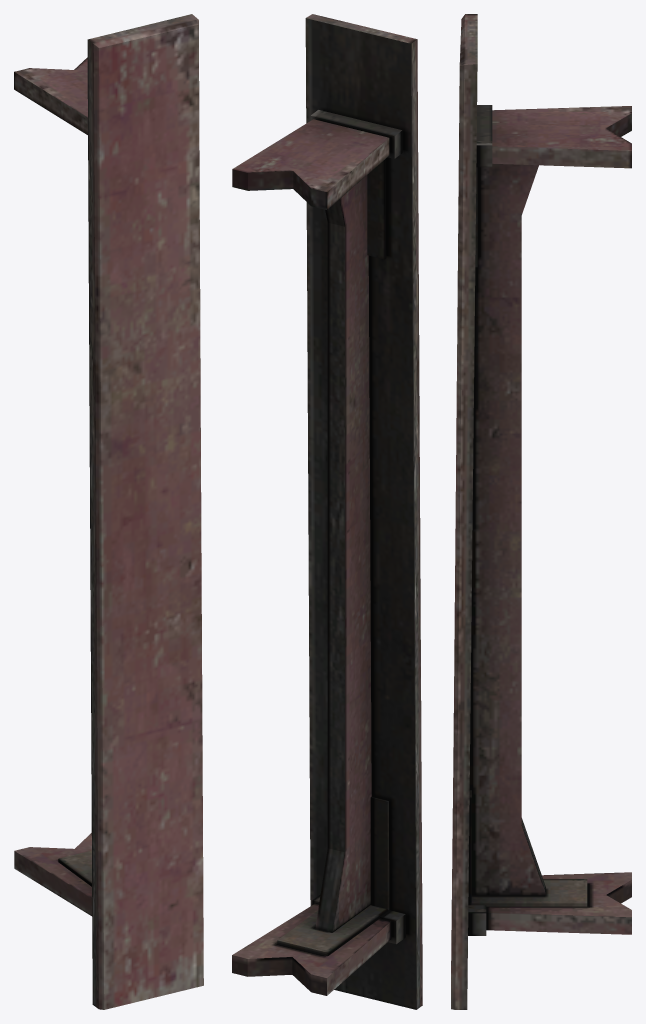
The model's file is bench04.dae.
3 renders of one model, left to right at view 1: azimuth 30°, elevation 25°; view 2: azimuth 150°, elevation 25°; view 3: azimuth 270°, elevation 25°, orthographic. The views are drawn at different scales.
Parts seen in each view (by area): view 1: Mesh; view 2: Mesh; view 3: Mesh.
Part boxes in pixels (x1=…): Mesh: x1=14, y1=14, x2=203, y2=1009; Mesh: x1=232, y1=14, x2=422, y2=1009; Mesh: x1=451, y1=14, x2=631, y2=1009.
Size of the model in its own units: 12.63 by 19.2 by 111.
